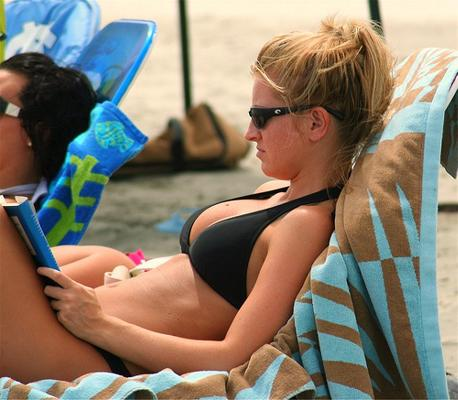person: (2, 13, 394, 384)
